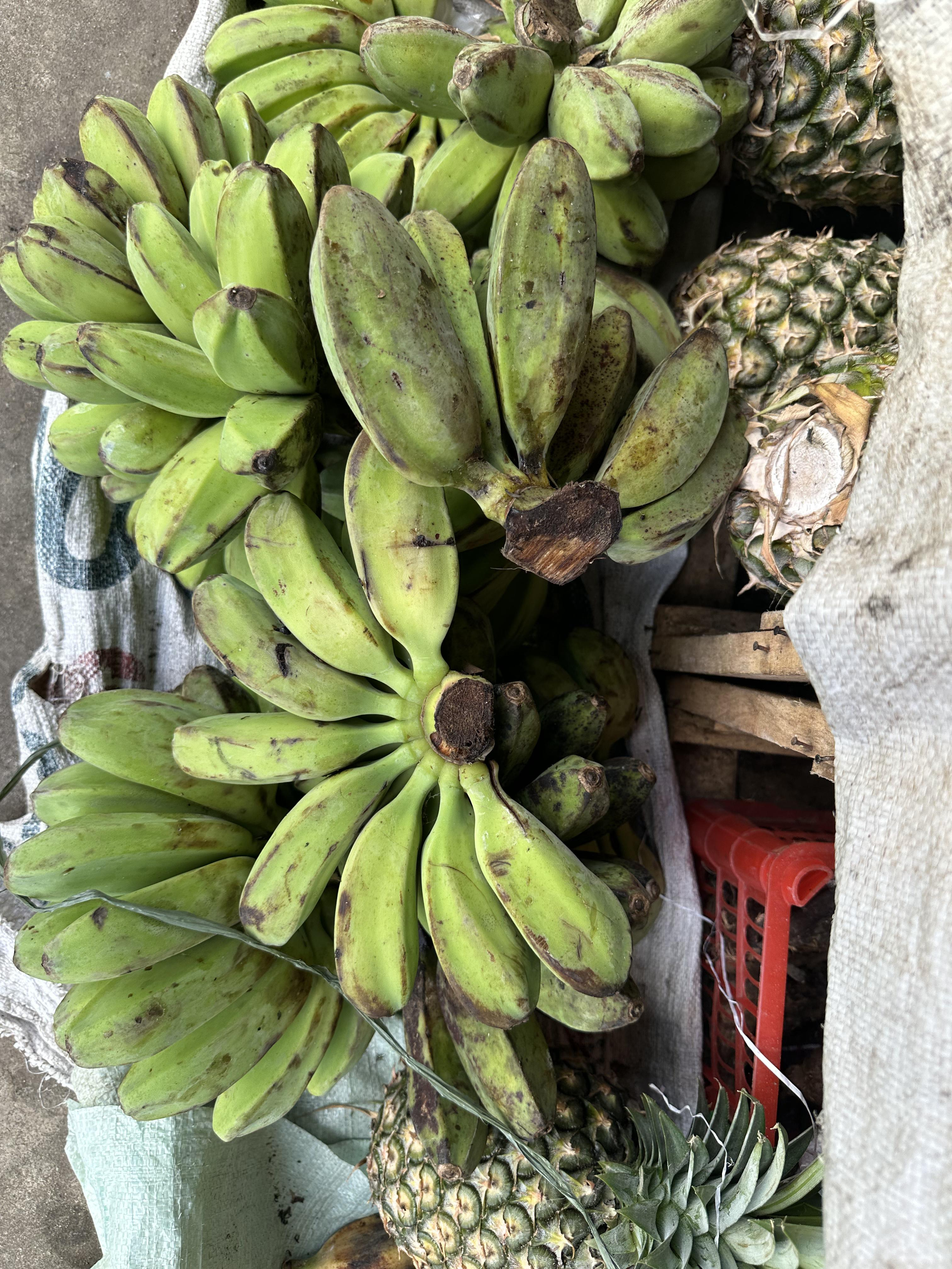underripe: (173, 433, 632, 1029), (308, 137, 749, 564), (75, 123, 415, 572), (0, 74, 272, 477), (360, 0, 749, 268), (15, 901, 373, 1141), (2, 665, 281, 933), (202, 0, 439, 185), (491, 681, 655, 842)
